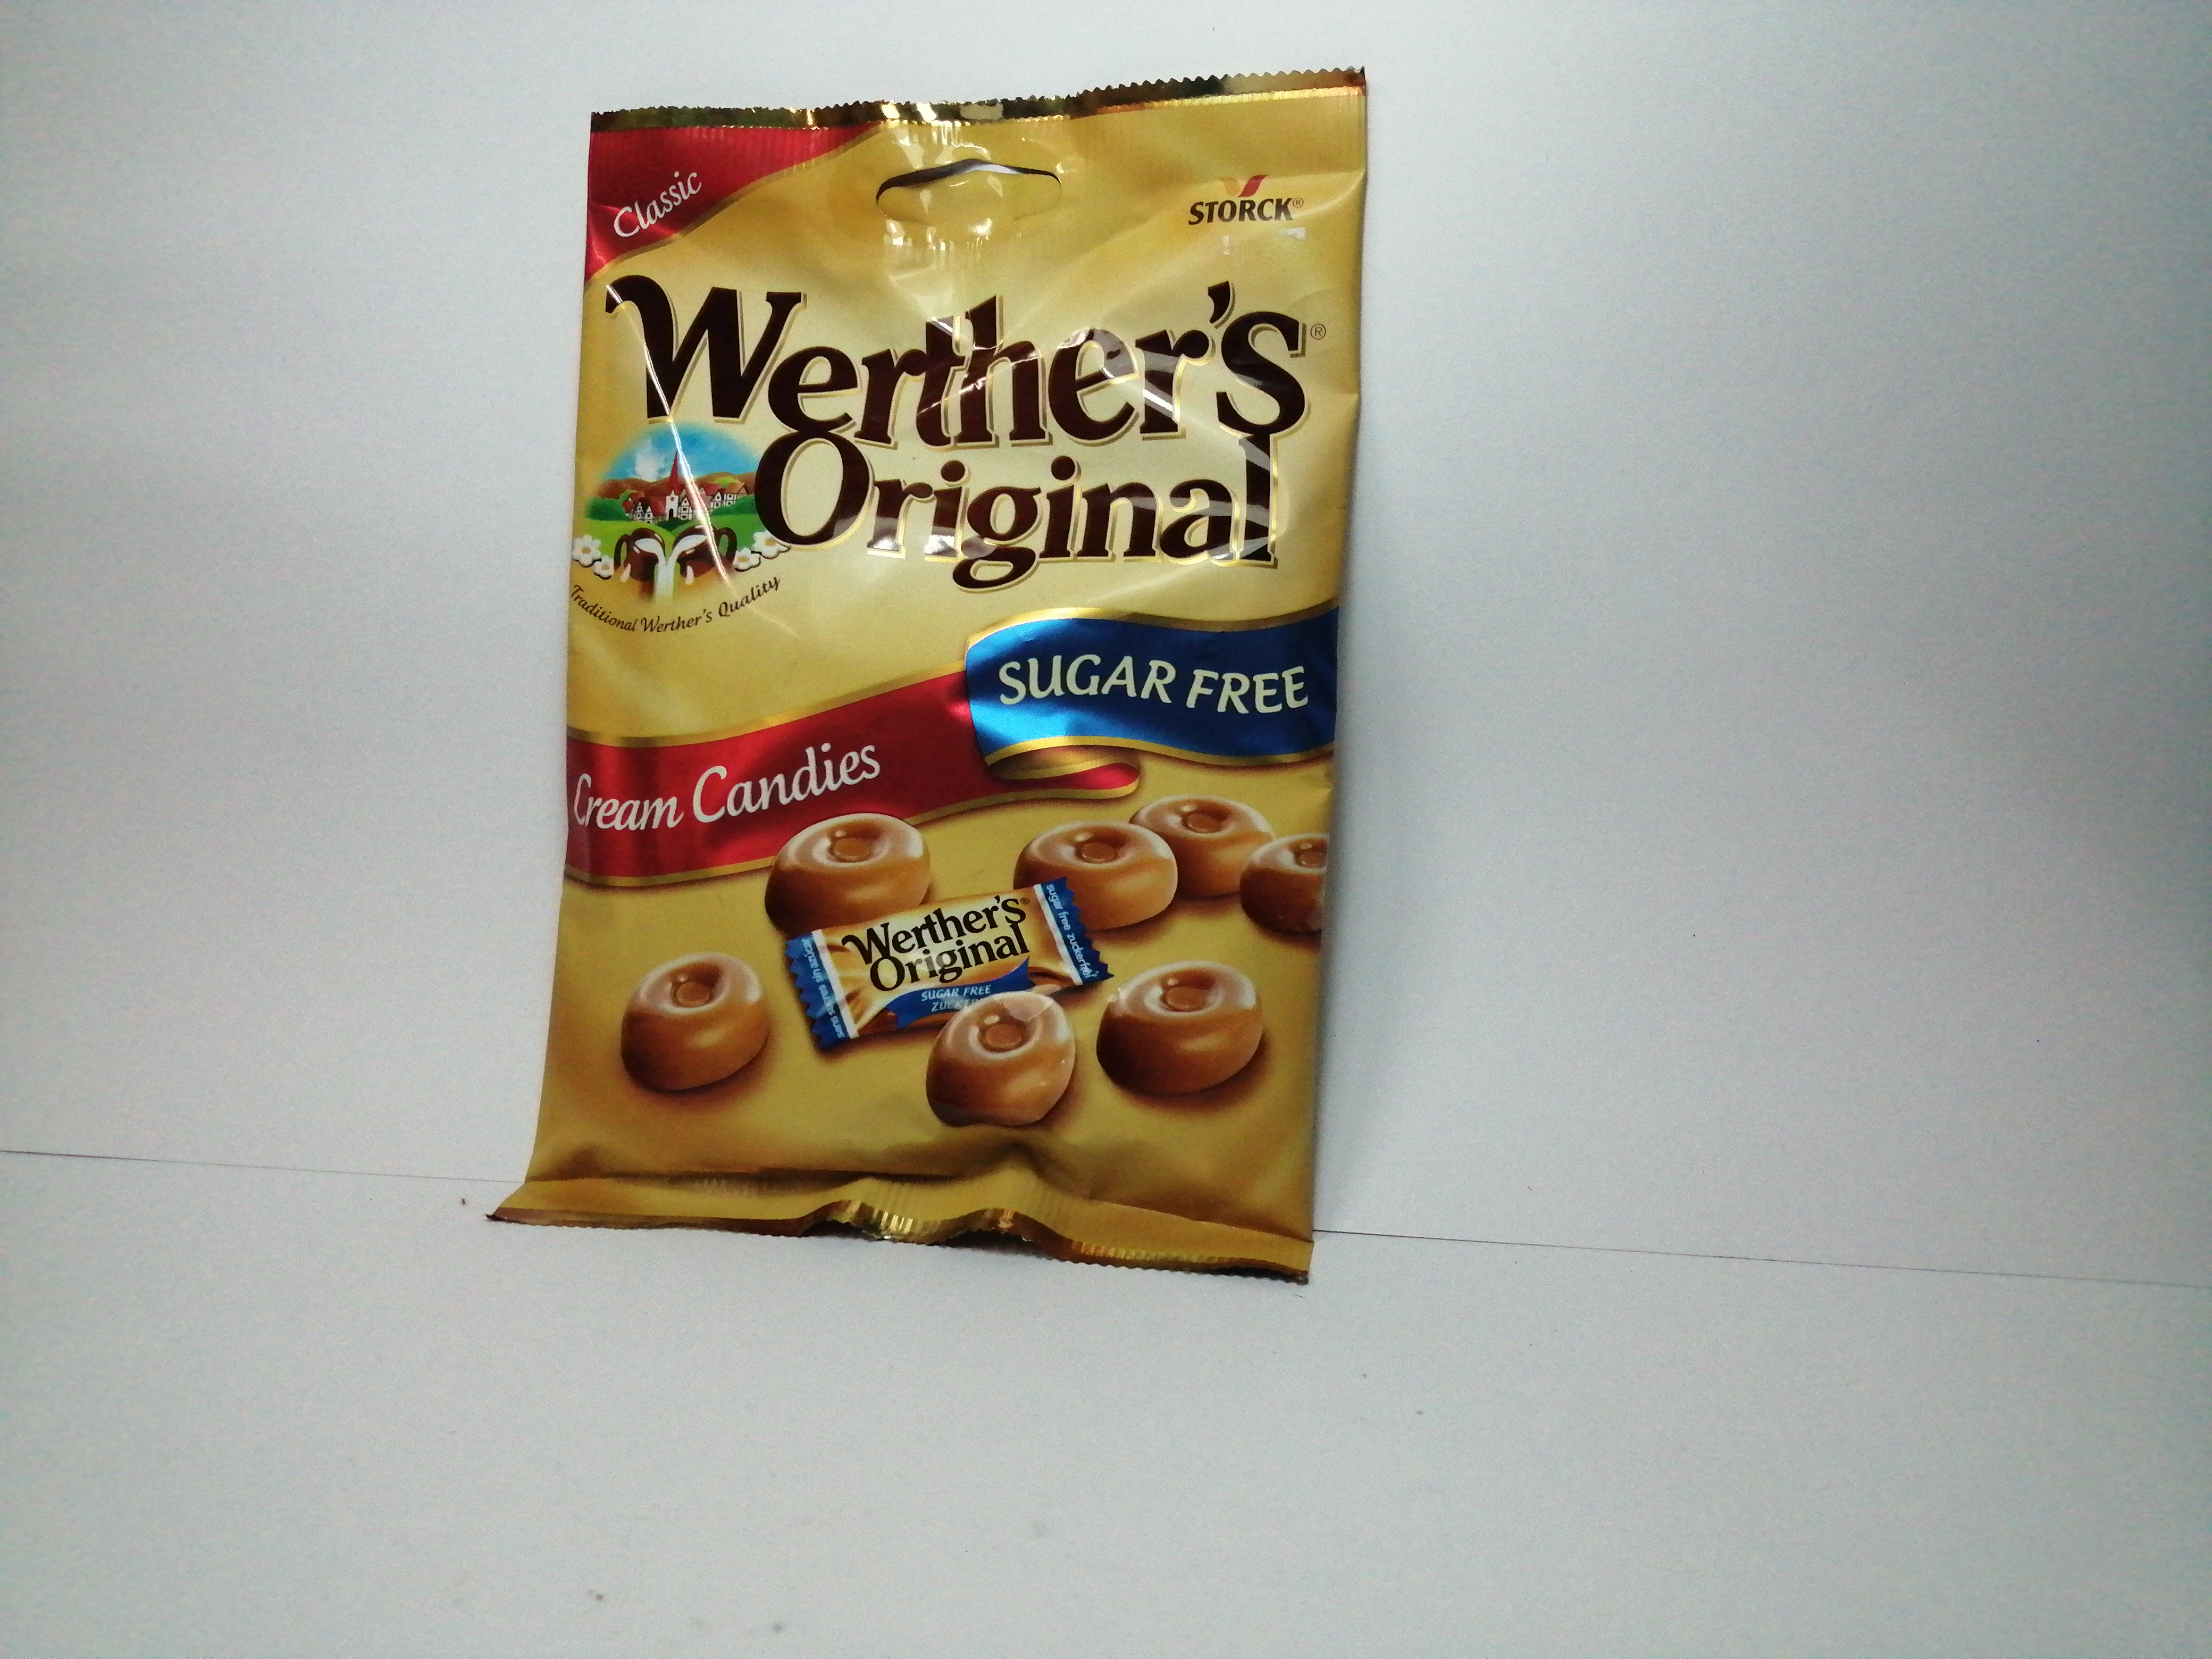dulces: (496, 59, 1378, 1291)
